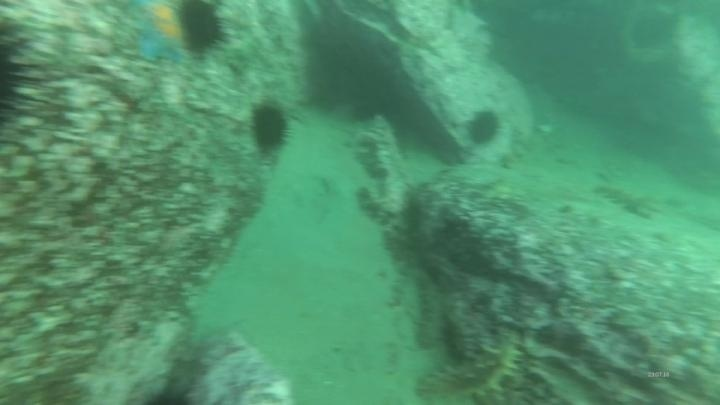echinus: (175, 1, 230, 58), (247, 100, 293, 156), (464, 107, 503, 149)
holothurian: (420, 330, 520, 405), (409, 274, 448, 353), (446, 299, 485, 378), (592, 177, 661, 221)
starfish: (126, 1, 193, 66)
